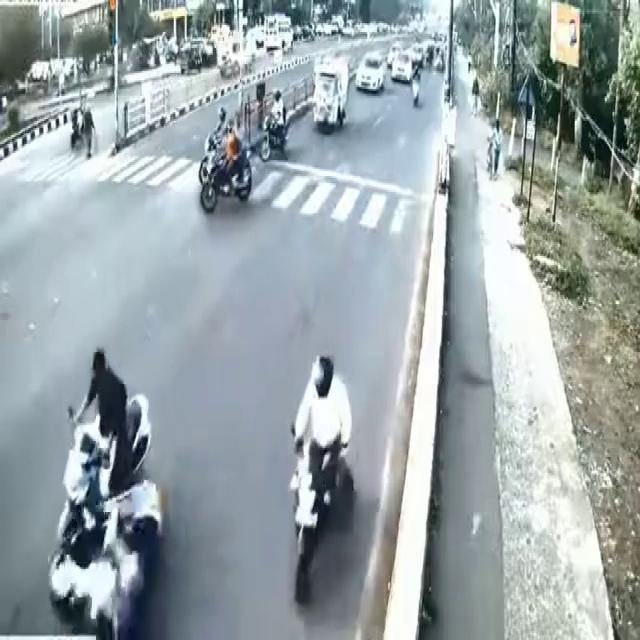accident: (13, 293, 210, 640)
